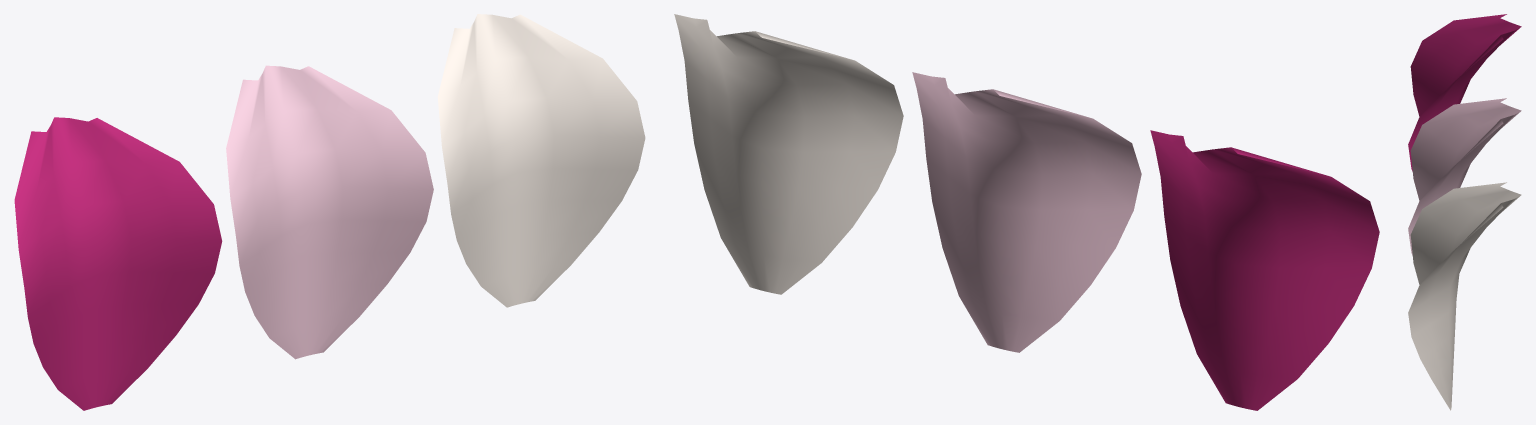
Rendered from diwali-rose-petal.glb.
The picture shows the model from 3 angles, left to right: view 1: azimuth 30°, elevation 25°; view 2: azimuth 150°, elevation 25°; view 3: azimuth 270°, elevation 25°; orthographic projection. The views are drawn at different scales.
Visible parts, largest first — view 1: Petal_Ivory, Petal_Blush, Petal_Rani; view 2: Petal_Rani, Petal_Blush, Petal_Ivory; view 3: Petal_Ivory, Petal_Rani, Petal_Blush.
Boxes of the visible parts, x1,y1,x2,y2 form: Petal_Ivory: (437, 14, 645, 307); Petal_Blush: (226, 65, 433, 359); Petal_Rani: (14, 117, 222, 410); Petal_Rani: (1150, 130, 1379, 410); Petal_Blush: (912, 72, 1141, 352); Petal_Ivory: (674, 14, 903, 294); Petal_Ivory: (1408, 182, 1521, 410); Petal_Rani: (1408, 14, 1521, 171); Petal_Blush: (1408, 98, 1521, 255).
Size of the model in its own units: 0.0878 by 0.035 by 0.0171.
